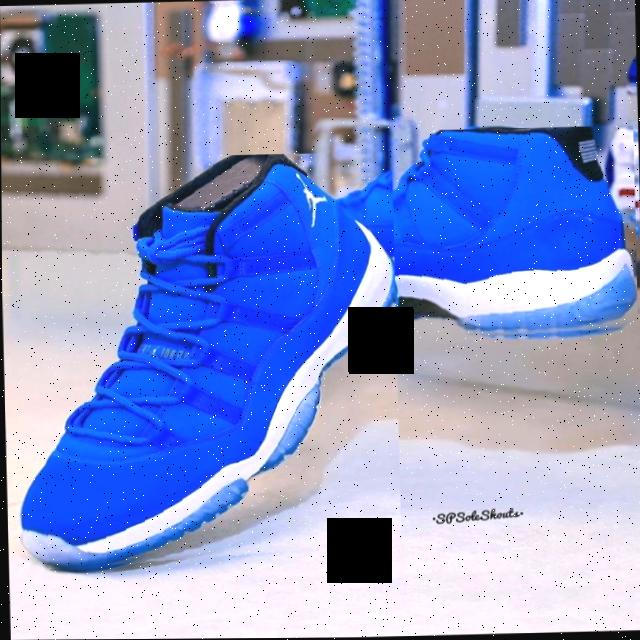shoe: (9, 151, 400, 571), (361, 126, 637, 345)
